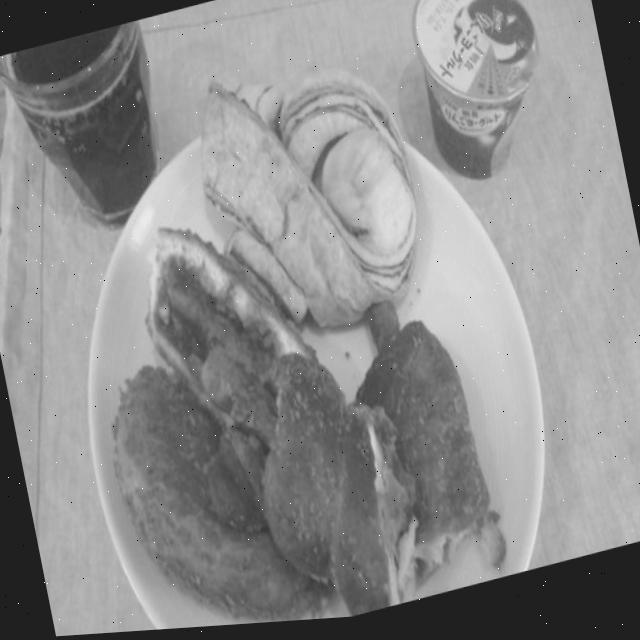三明治: (18, 32, 529, 639)
